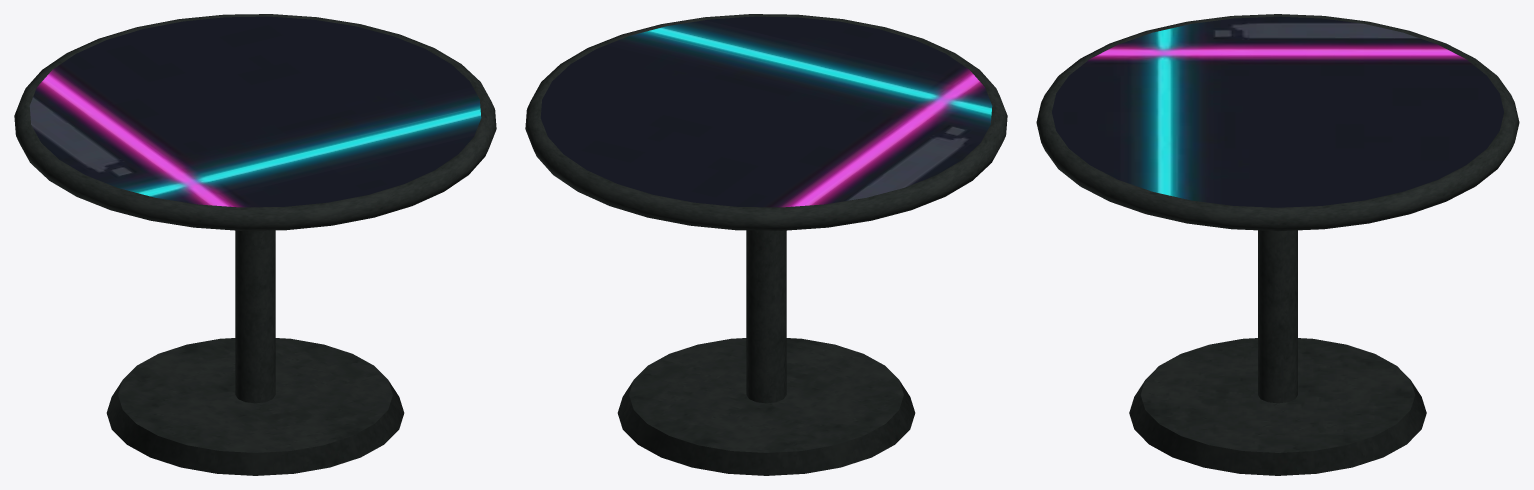
The model's file is prop_barTable.glb.
3 renders of one model, left to right at view 1: azimuth 30°, elevation 25°; view 2: azimuth 150°, elevation 25°; view 3: azimuth 270°, elevation 25°, orthographic.
Parts seen in each view (by area): view 1: prop; view 2: prop; view 3: prop.
Part boxes in pixels (x1,y1,x2,y2): prop: (14,14,496,475); prop: (525,14,1007,475); prop: (1036,14,1519,475).
Bounding box in the file's own units: 0.844 × 0.582 × 0.844.
Materials: 2 (2 with a texture image).
